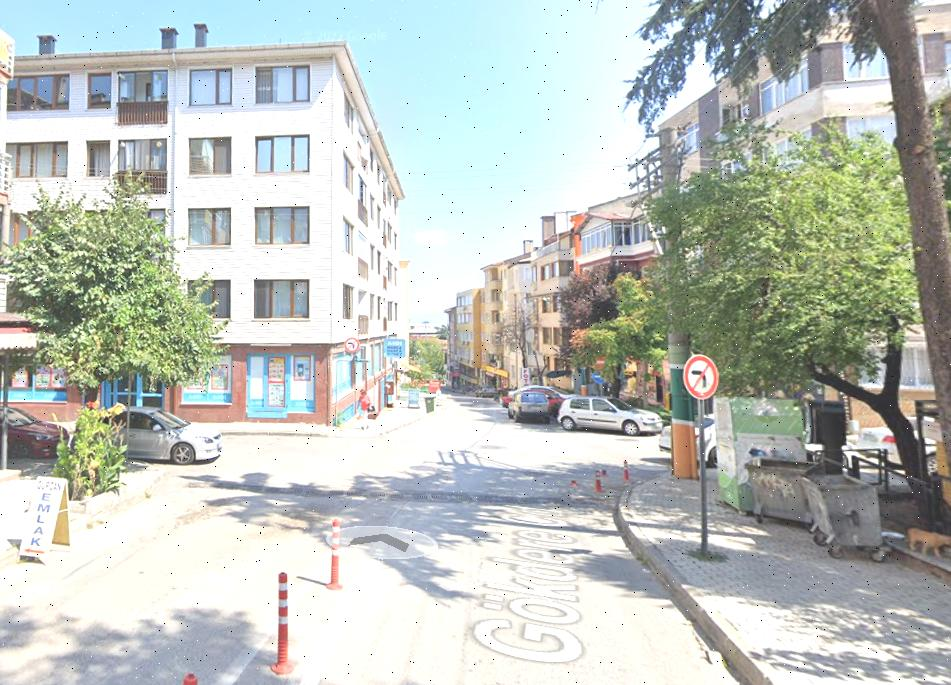leftturnsareforbidden: (684, 355, 718, 399), (345, 337, 360, 352)
